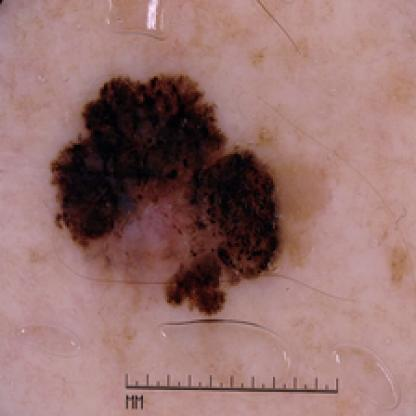Skin_Cancer-Malignant: (50, 71, 281, 315)
